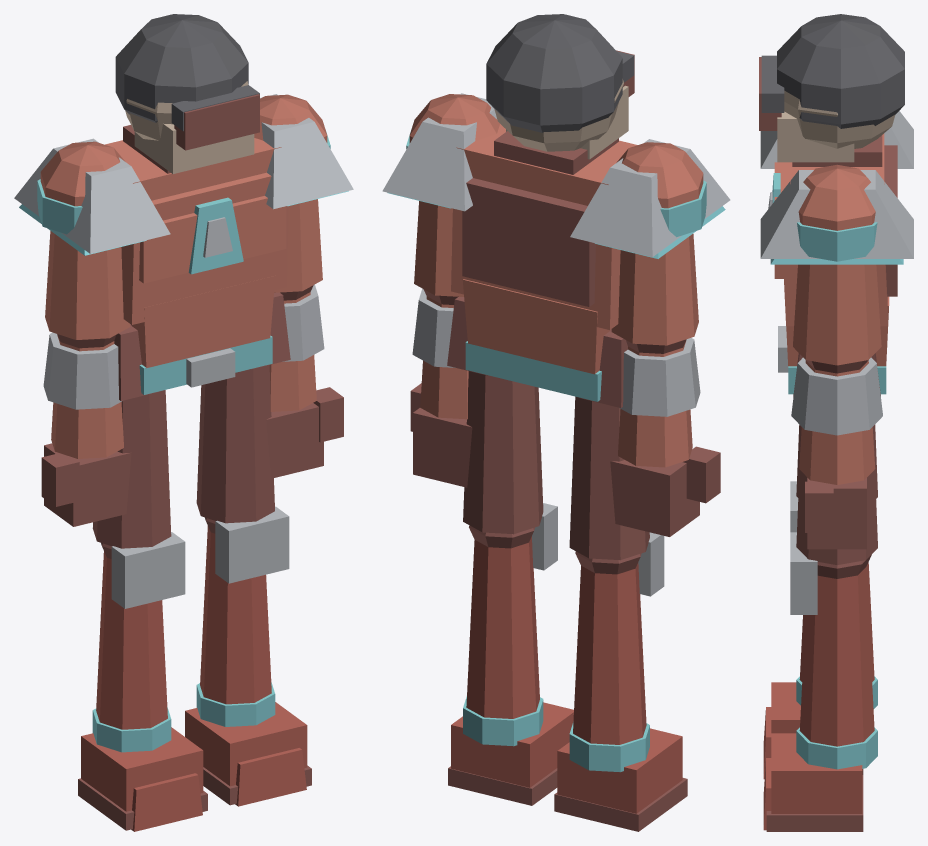
The model's file is volt.glb.
The picture shows the model from 3 angles, left to right: view 1: azimuth 30°, elevation 25°; view 2: azimuth 150°, elevation 25°; view 3: azimuth 270°, elevation 25°; orthographic projection. The views are drawn at different scales.
Parts seen in each view (by area): view 1: torso, head, lowerLegR, lowerLegL, upperArmL, upperLegR, footL, footR, lowerArmL, upperLegL, hips, handL (+3 smaller); view 2: torso, head, lowerLegR, lowerLegL, upperArmL, upperLegR, upperLegL, lowerArmL, footL, footR, handL, hips (+3 smaller); view 3: head, upperArmR, lowerLegR, torso, lowerArmR, footR, handR, upperLegR, footL, lowerLegL, hips, upperLegL.
Boxes of the visible parts, <box> form: torso: <box>14,94,353,368</box>; head: <box>115,14,259,173</box>; lowerLegR: <box>196,506,289,726</box>; lowerLegL: <box>92,532,185,752</box>; upperArmL: <box>37,141,130,348</box>; upperLegR: <box>196,365,274,533</box>; footL: <box>78,727,207,831</box>; footR: <box>185,702,311,806</box>; lowerArmL: <box>43,332,123,458</box>; upperLegL: <box>92,324,171,558</box>; hips: <box>114,292,290,400</box>; handL: <box>41,443,131,526</box>; torso: <box>382,93,730,374</box>; head: <box>486,14,634,159</box>; lowerLegR: <box>463,503,557,746</box>; lowerLegL: <box>569,532,664,772</box>; upperArmL: <box>611,142,706,353</box>; upperLegR: <box>463,371,543,548</box>; upperLegL: <box>569,329,649,574</box>; lowerArmL: <box>618,338,700,467</box>; footL: <box>554,728,687,831</box>; footR: <box>448,702,573,805</box>; handL: <box>610,446,720,536</box>; hips: <box>447,297,627,407</box>; head: <box>759,14,904,162</box>; upperArmR: <box>793,164,881,373</box>; lowerLegR: <box>790,532,877,769</box>; torso: <box>760,111,913,366</box>; lowerArmR: <box>791,357,882,484</box>; footR: <box>763,733,863,831</box>; handR: <box>805,478,866,549</box>; upperLegR: <box>796,426,877,578</box>; footL: <box>763,682,863,779</box>; lowerLegL: <box>790,481,877,708</box>; hips: <box>778,326,886,396</box>; upperLegL: <box>796,424,877,498</box>.
Size of the model in its own units: 0.6718 by 1.7 by 0.3105.
